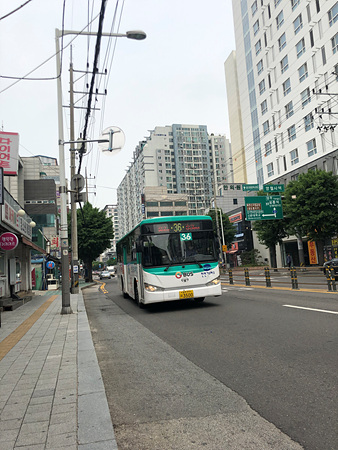bnum: (179, 231, 192, 241)
